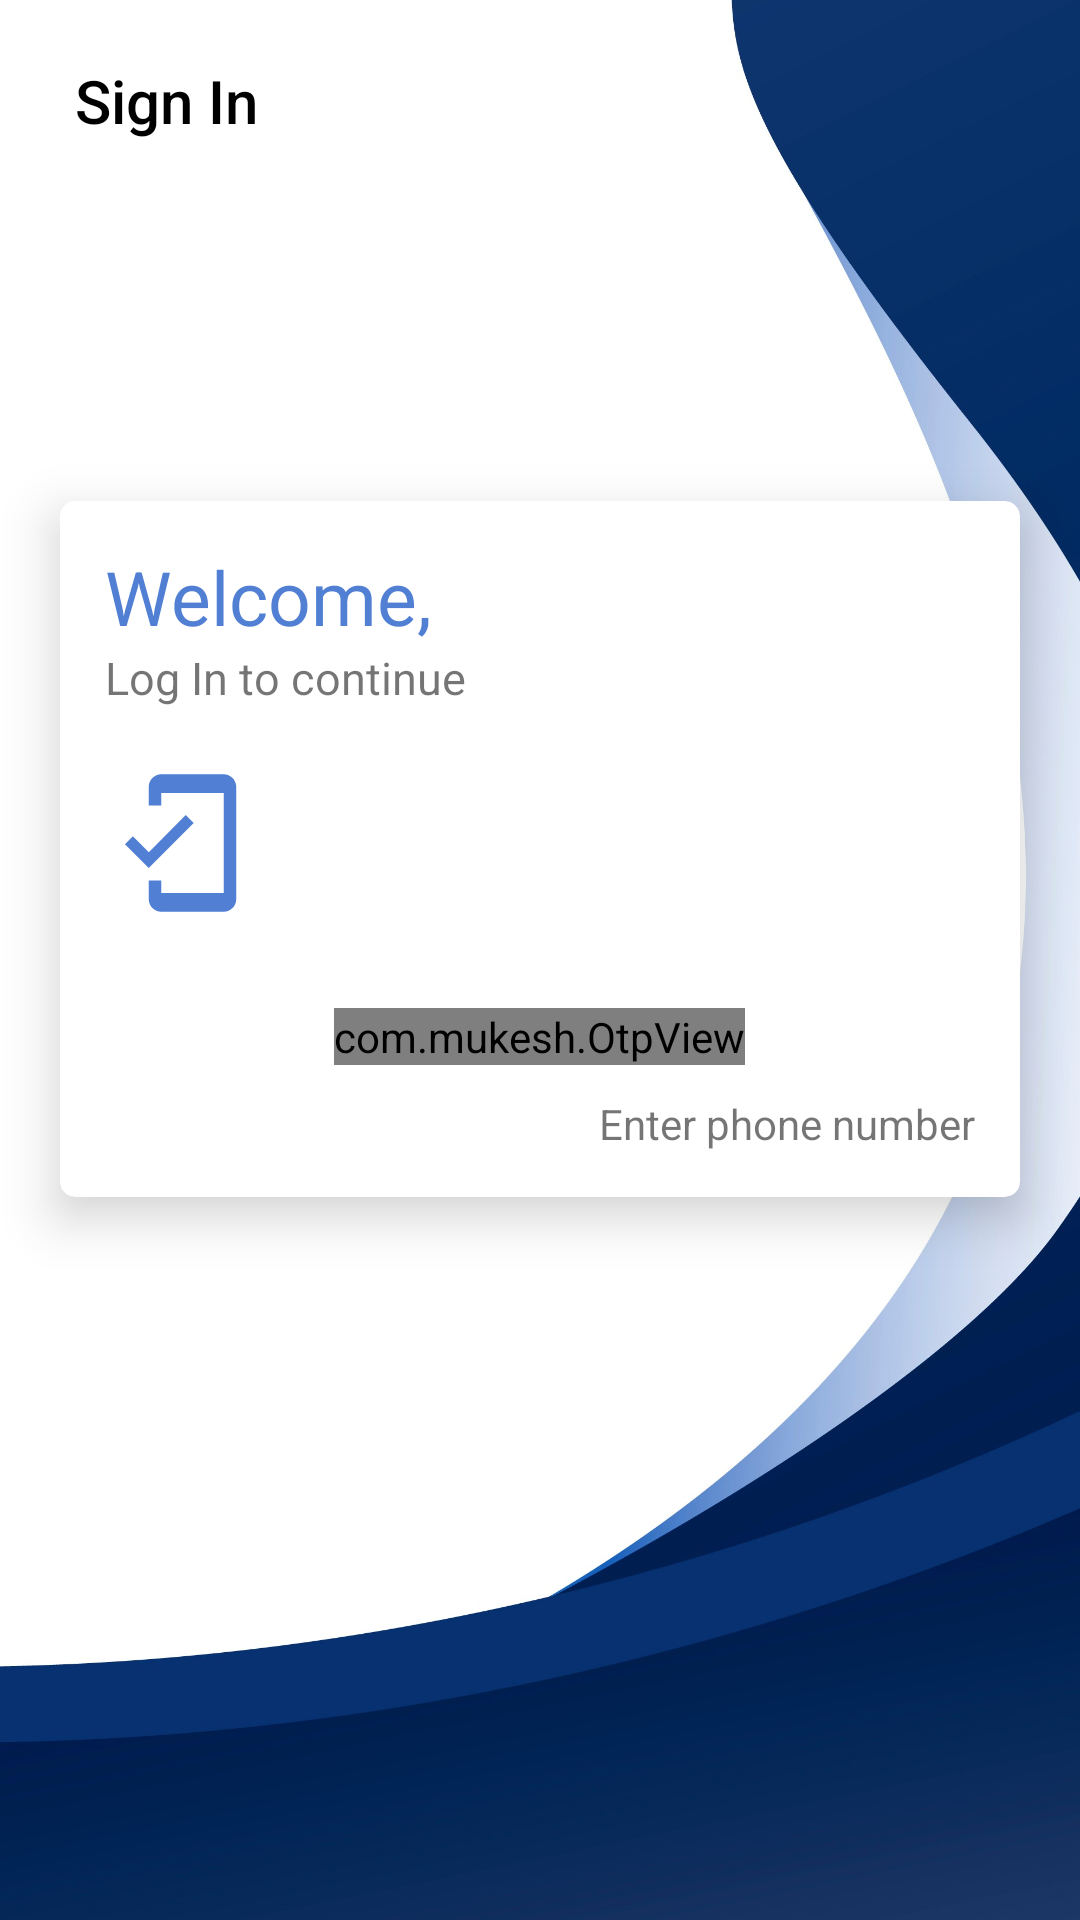

Named icons in this screenshot (1080px×1920px) and their bounding boxes, (x1=x1, y1=y1, x2=x2, y2=y2):
mobile friendly: (x1=125, y1=774, x2=237, y2=912)
